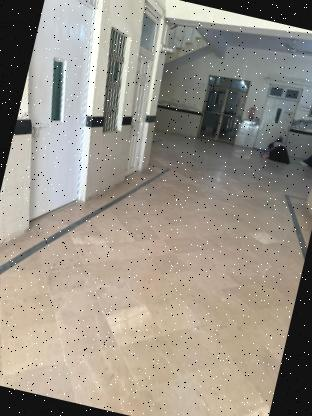door: (0, 0, 136, 240), (99, 0, 183, 181), (191, 68, 253, 150), (250, 78, 303, 162)
